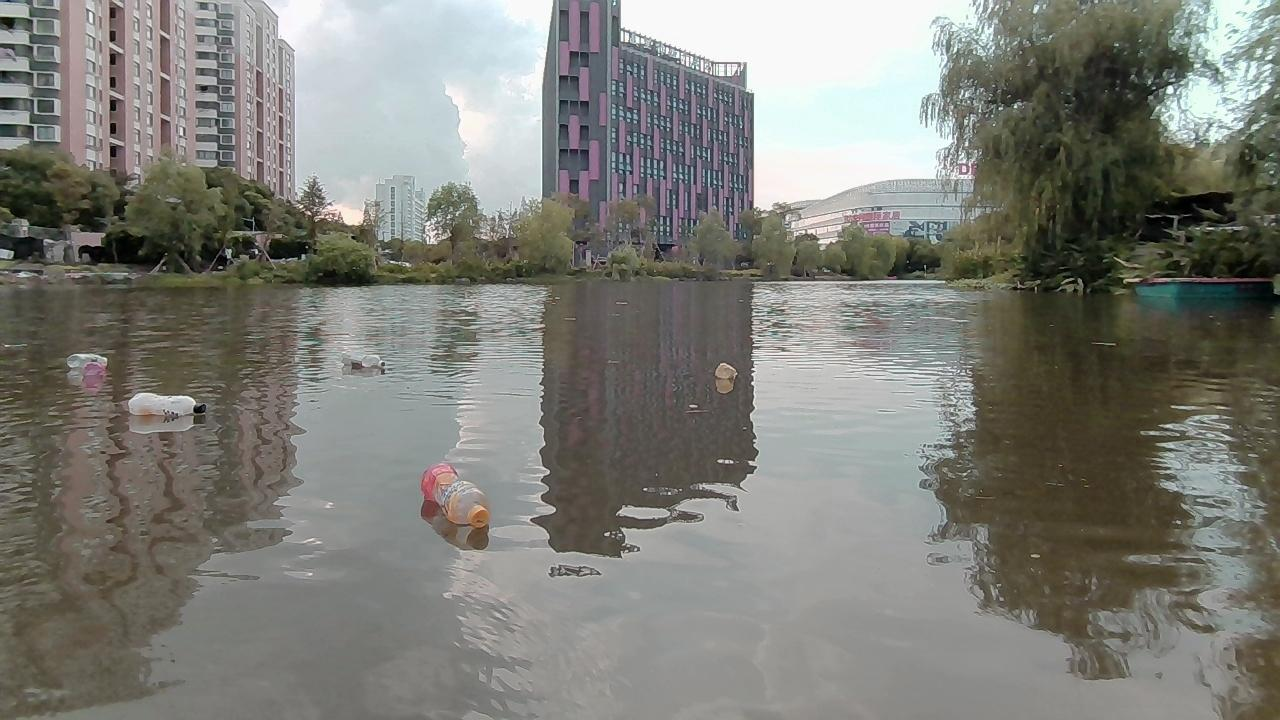Plastic: (419, 462, 493, 531), (127, 391, 207, 417), (339, 348, 387, 370), (67, 351, 108, 375), (84, 363, 108, 392), (713, 362, 737, 381)
